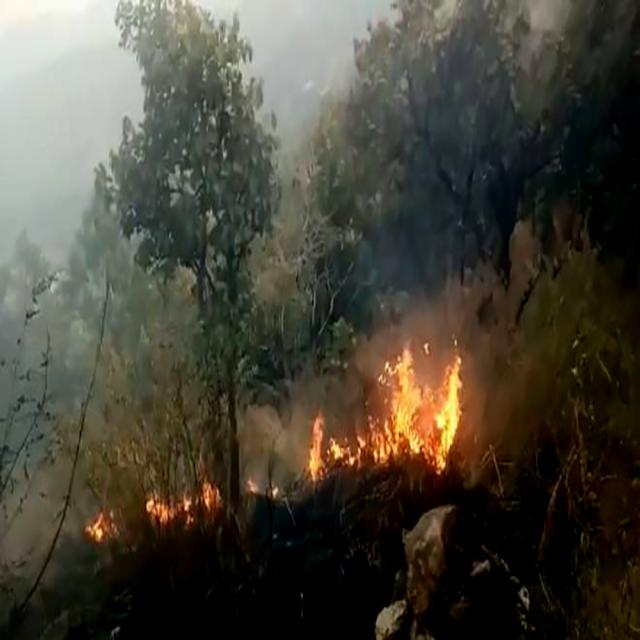Fire: (285, 323, 464, 493)
